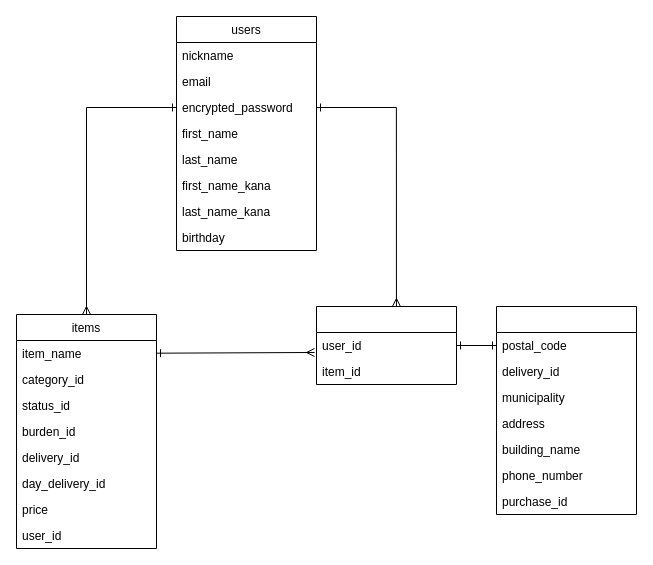
Some shapes in this 653 by 565 pixel diagram are drawn without their labels. The box of each missing label's shape, as (x1, y1, x2, y2) in pixels:
purchases: (316, 306, 456, 384)
residences: (496, 306, 636, 514)
